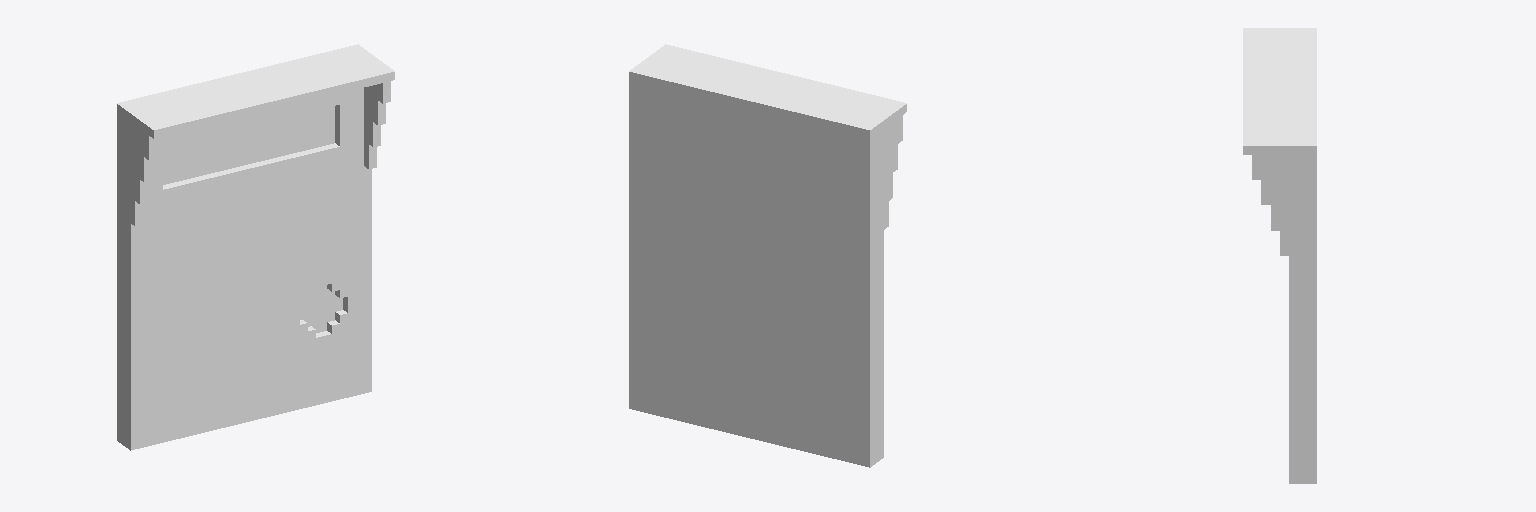
File: intercom2-1-lod1.obj
The picture shows the model from 3 angles: view 1: azimuth 30°, elevation 25°; view 2: azimuth 150°, elevation 25°; view 3: azimuth 270°, elevation 25°; orthographic projection.
Visible parts, largest first — view 1: lod1; view 2: lod1; view 3: lod1.
Part boxes in pixels (bbox=[...]): lod1: bbox=[117, 44, 394, 450]; lod1: bbox=[629, 44, 906, 467]; lod1: bbox=[1243, 28, 1316, 483].
Size of the model in its own units: 3 by 4 by 0.8.